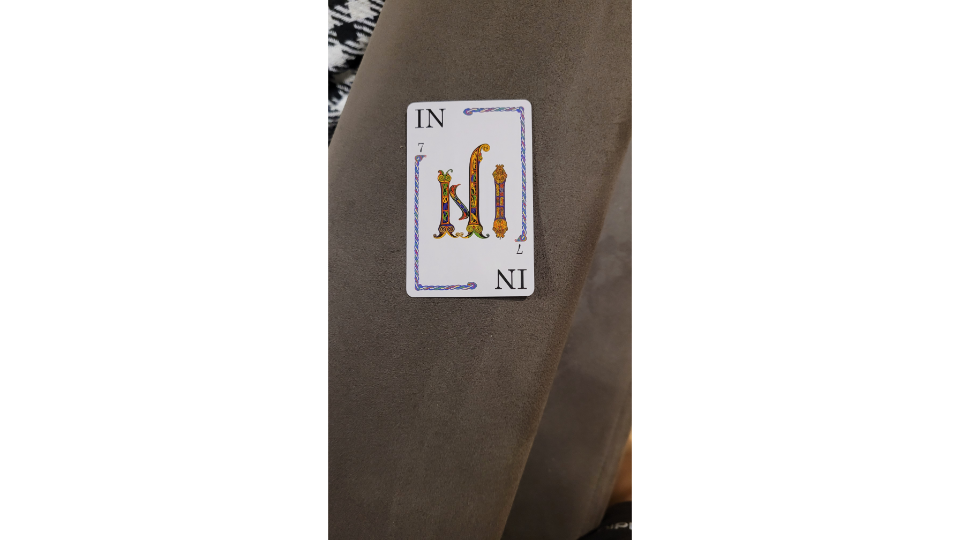IN: (401, 97, 538, 301)
